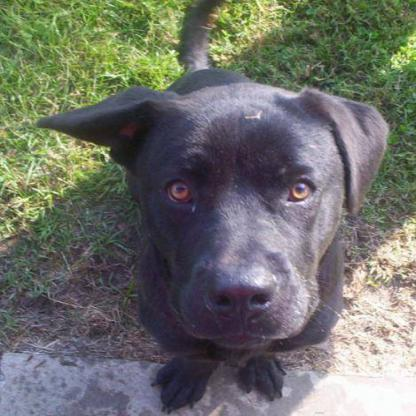dog: (30, 66, 389, 344)
